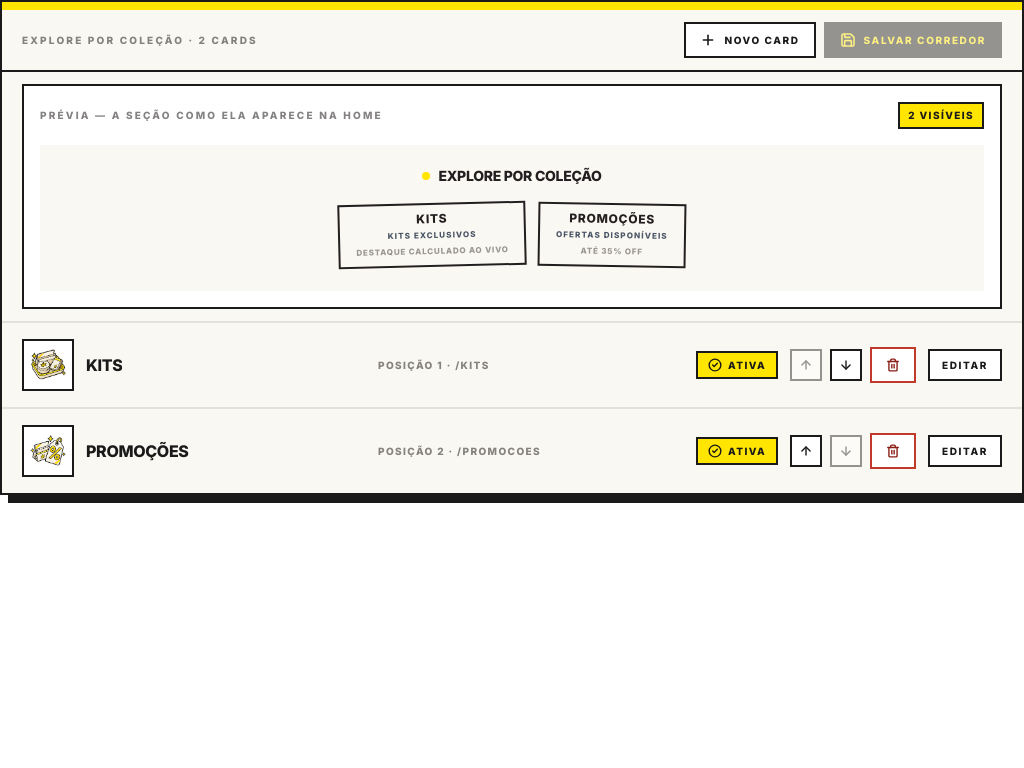
Test case: CollectionsNavGroup › lista uma linha por card e abre o editor no clique
Expected: the text "Explore por coleção · 2 cards" is shown, [22, 32, 258, 48]
Click the button with aria-label "editar kits" at coordinates (965, 365), box [928, 349, 1002, 381]
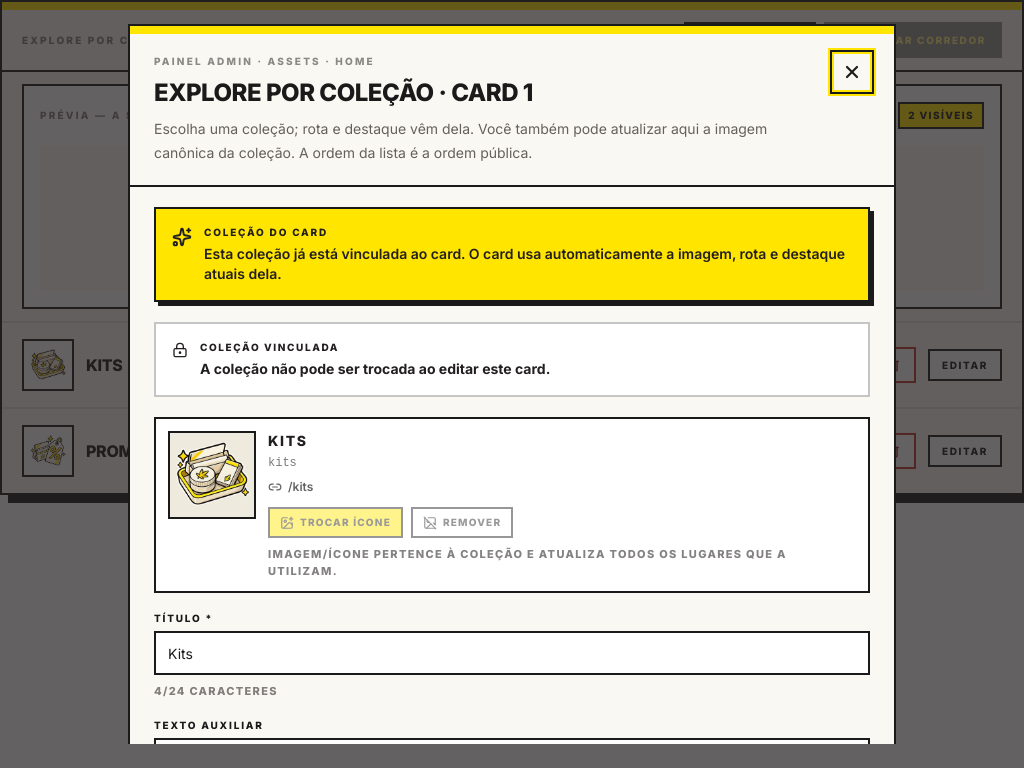
Expected: the dialog is shown
Expected: the heading "Explore por coleção · card 1" is shown, [154, 78, 533, 107]
